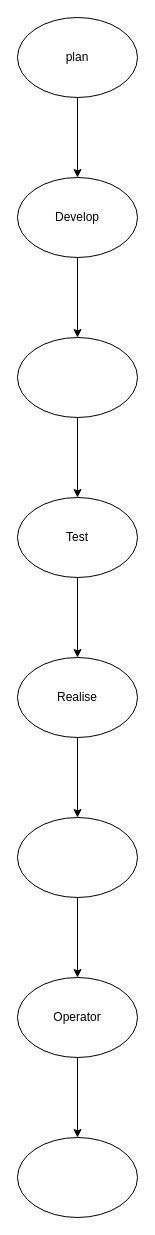
Some shapes in this 155 by 1235 pixel diagram are drawn without their labels. The shapes that lost their labels are listed below. From the top down, each one's box as (x1, y1, x2, y2) in pixels, then its label:
(16, 336, 138, 418): Buile
(16, 816, 138, 898): Deploy
